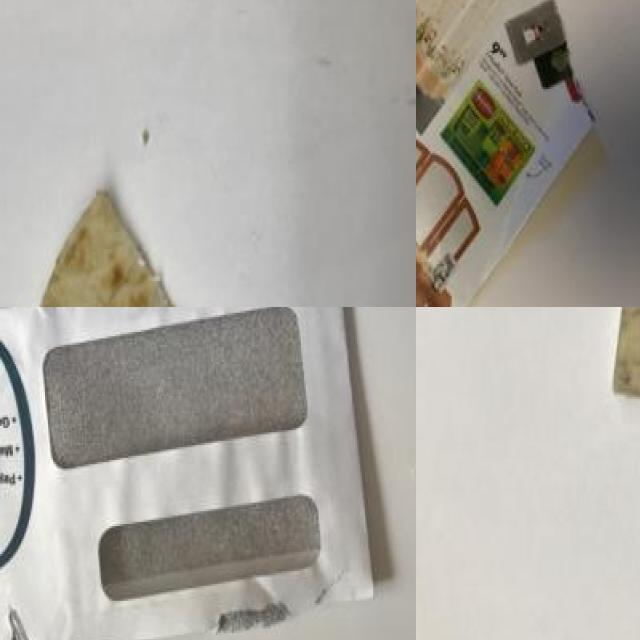compost: (10, 170, 247, 307)
paper: (0, 307, 385, 640), (416, 0, 613, 307)
